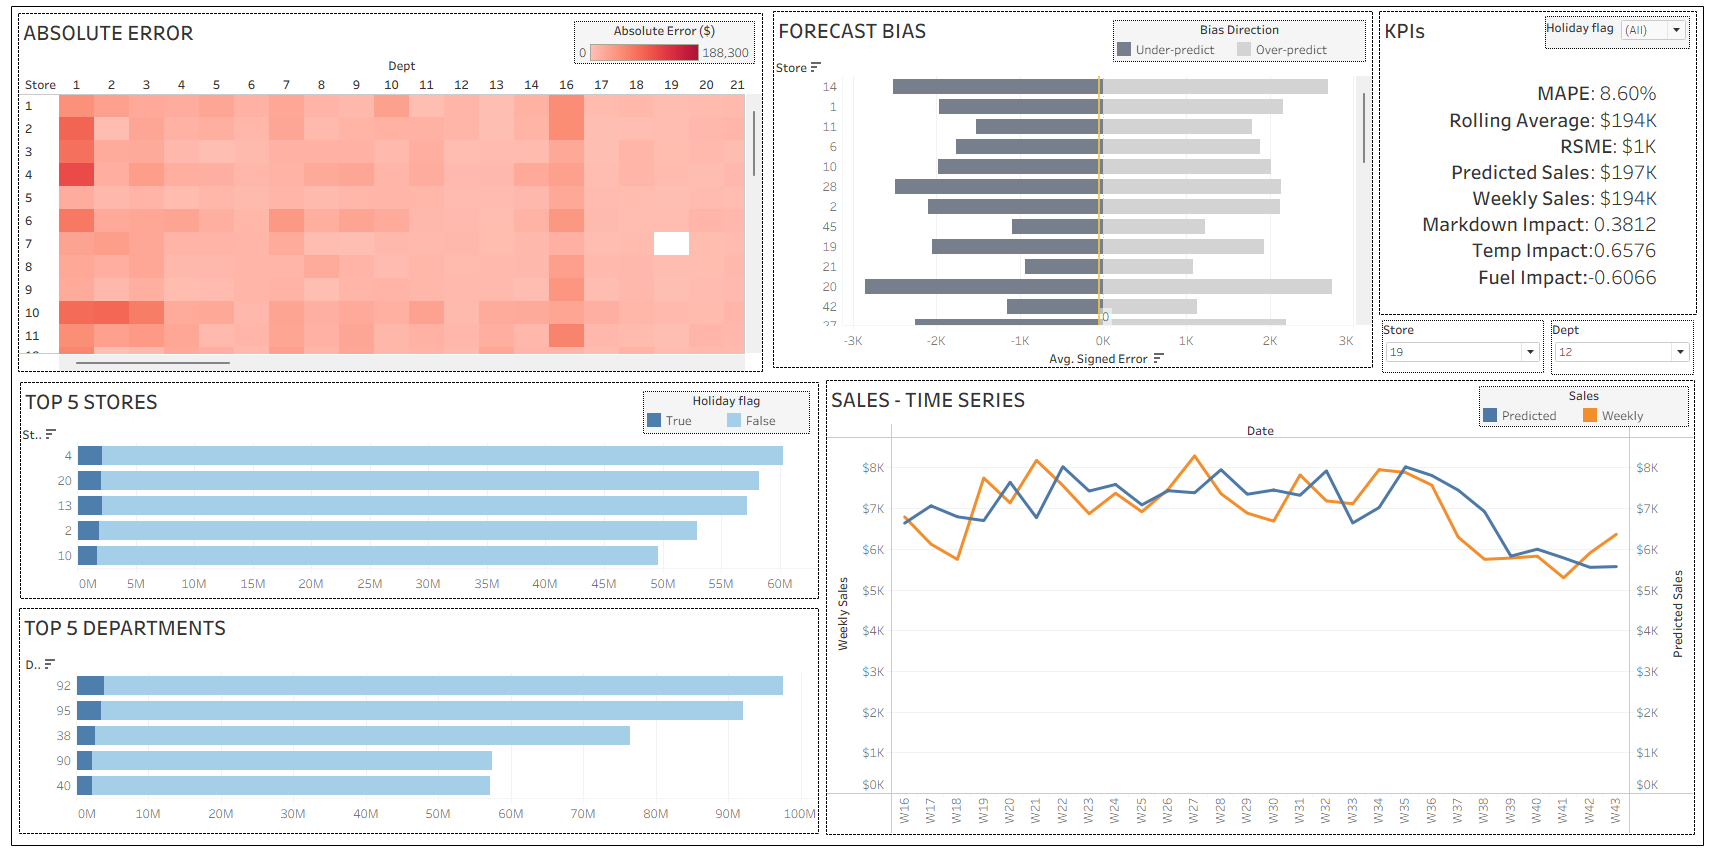

The page's visual inventory and layout, read from the dashboard file:
{"tool":"tableau","page":{"name":"Dashboard 1","canvas":[1709,856],"ordinal":0},"visuals":[{"type":"worksheet","title":"Forecast Bias","mark":"Automatic","rows":["Store"],"cols":["Calculation_504121729962639360"],"box":[770,13,600,357]},{"type":"worksheet","title":"KPI","mark":"Automatic","box":[1376,13,318,304]},{"type":"worksheet","title":"Error Heatmap","mark":"Automatic","rows":["Store"],"cols":["Dept"],"box":[15,15,745,359]},{"type":"filter","title":"KPI","param":"[federated.14j8dir17jm7gi1gh4pxu1dvmgee].[none:Calculation_2110499421662650374:n","box":[1542,18,145,33]},{"type":"legend","title":"Forecast Bias","param":"[federated.14j8dir17jm7gi1gh4pxu1dvmgee].[none:Calculation_504121729965580290:nk","box":[1110,22,253,42]},{"type":"legend","title":"Error Heatmap","param":"[federated.14j8dir17jm7gi1gh4pxu1dvmgee].[usr:Calculation_2110499421662949385:qk","box":[571,23,181,43]},{"type":"filter","title":"Time Series Sheet (Actual vs Predicted)","param":"[federated.14j8dir17jm7gi1gh4pxu1dvmgee].[none:Store:ok]","box":[1379,322,162,53]},{"type":"filter","title":"KPI","param":"[federated.14j8dir17jm7gi1gh4pxu1dvmgee].[none:Dept:ok]","box":[1548,322,143,55]},{"type":"worksheet","title":"Time Series Sheet (Actual vs Predicted)","mark":"Automatic","rows":["Weekly_Sales","Predicted_Sales"],"cols":["Date"],"box":[823,382,869,455]},{"type":"worksheet","title":"Top 5 Stores","mark":"Automatic","rows":["Store"],"cols":["Weekly_Sales"],"box":[17,384,799,217]},{"type":"legend","title":"Time Series Sheet (Actual vs Predicted)","param":"[federated.14j8dir17jm7gi1gh4pxu1dvmgee].[:Measure Names]","box":[1476,388,210,41]},{"type":"legend","title":"Top 5 Departments","param":"[federated.14j8dir17jm7gi1gh4pxu1dvmgee].[none:Calculation_2110499421662650374:n","box":[640,393,167,43]},{"type":"worksheet","title":"Top 5 Departments","mark":"Automatic","rows":["Dept"],"cols":["Weekly_Sales"],"box":[16,610,800,226]}]}

Visuals, with their boxes in screenshot pixels (x1, y1, x2, y2), scaled from the page's 1709x856 canvas onto the 1714x858 screenshot:
"Forecast Bias" worksheet: 772:13:1374:371
"KPI" worksheet: 1380:13:1699:318
"Error Heatmap" worksheet: 15:15:762:375
"KPI" filter: 1547:18:1692:51
"Forecast Bias" legend: 1113:22:1367:64
"Error Heatmap" legend: 573:23:754:66
"Time Series Sheet (Actual vs Predicted)" filter: 1383:323:1546:376
"KPI" filter: 1553:323:1696:378
"Time Series Sheet (Actual vs Predicted)" worksheet: 825:383:1697:839
"Top 5 Stores" worksheet: 17:385:818:602
"Time Series Sheet (Actual vs Predicted)" legend: 1480:389:1691:430
"Top 5 Departments" legend: 642:394:809:437
"Top 5 Departments" worksheet: 16:611:818:838
